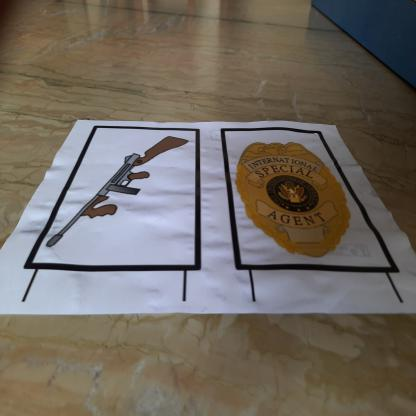Bootlegger: (41, 134, 195, 256)
G-man: (229, 134, 357, 270)
